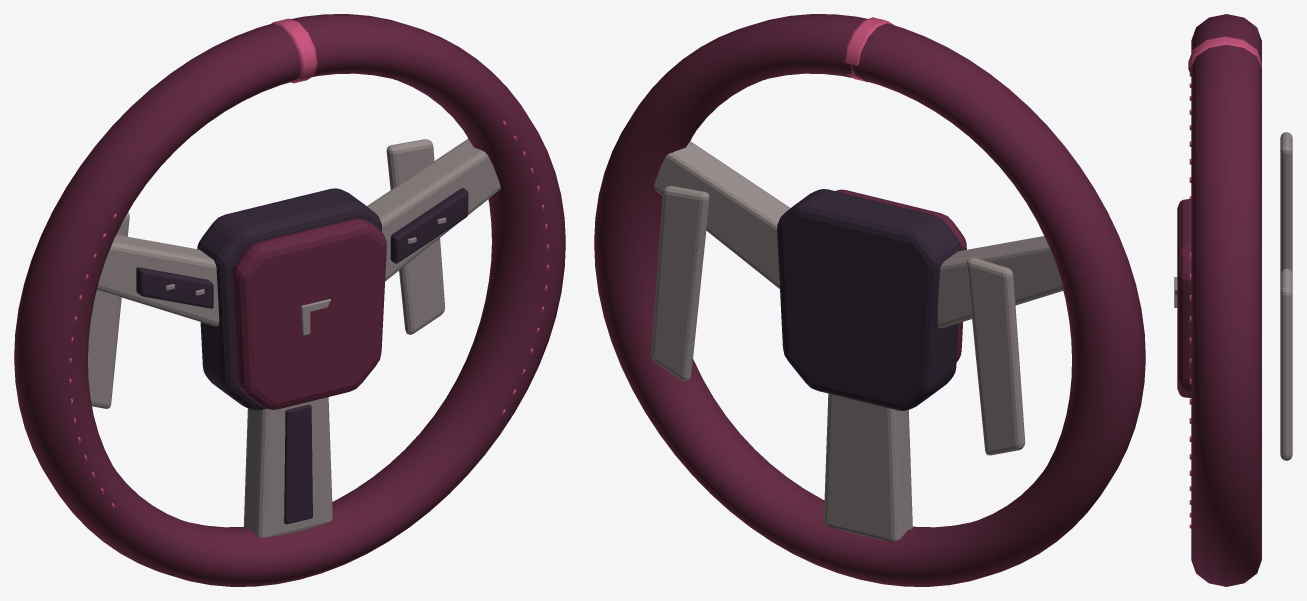
Rendered from steering-round.glb.
3 views of the same model, side by side, from view 1: azimuth 30°, elevation 25°; view 2: azimuth 150°, elevation 25°; view 3: azimuth 270°, elevation 25° (orthographic). The views are drawn at different scales.
Parts seen in each view (by area): view 1: steering_round_leather, steering_round_metal, steering_round_hub, steering_round_thread; view 2: steering_round_leather, steering_round_metal, steering_round_hub, steering_round_thread; view 3: steering_round_leather, steering_round_metal, steering_round_thread.
Boxes of the visible parts, x1=… form: steering_round_leather: x1=14, y1=14, x2=565, y2=586; steering_round_metal: x1=88, y1=139, x2=500, y2=537; steering_round_hub: x1=136, y1=188, x2=468, y2=524; steering_round_thread: x1=69, y1=18, x2=548, y2=507; steering_round_leather: x1=594, y1=14, x2=1145, y2=586; steering_round_metal: x1=651, y1=141, x2=1063, y2=541; steering_round_hub: x1=777, y1=189, x2=961, y2=410; steering_round_thread: x1=844, y1=17, x2=894, y2=82; steering_round_leather: x1=1177, y1=14, x2=1261, y2=586; steering_round_metal: x1=1174, y1=132, x2=1292, y2=460; steering_round_thread: x1=1188, y1=36, x2=1261, y2=528.
Bounding box in the file's own units: 0.383 × 0.3739 × 0.077.
